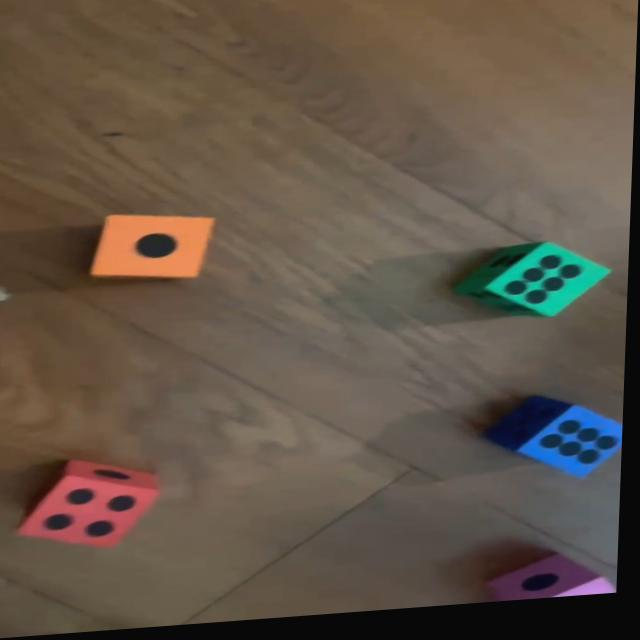blue_block: (488, 398, 627, 492)
red_block: (21, 455, 165, 553)
